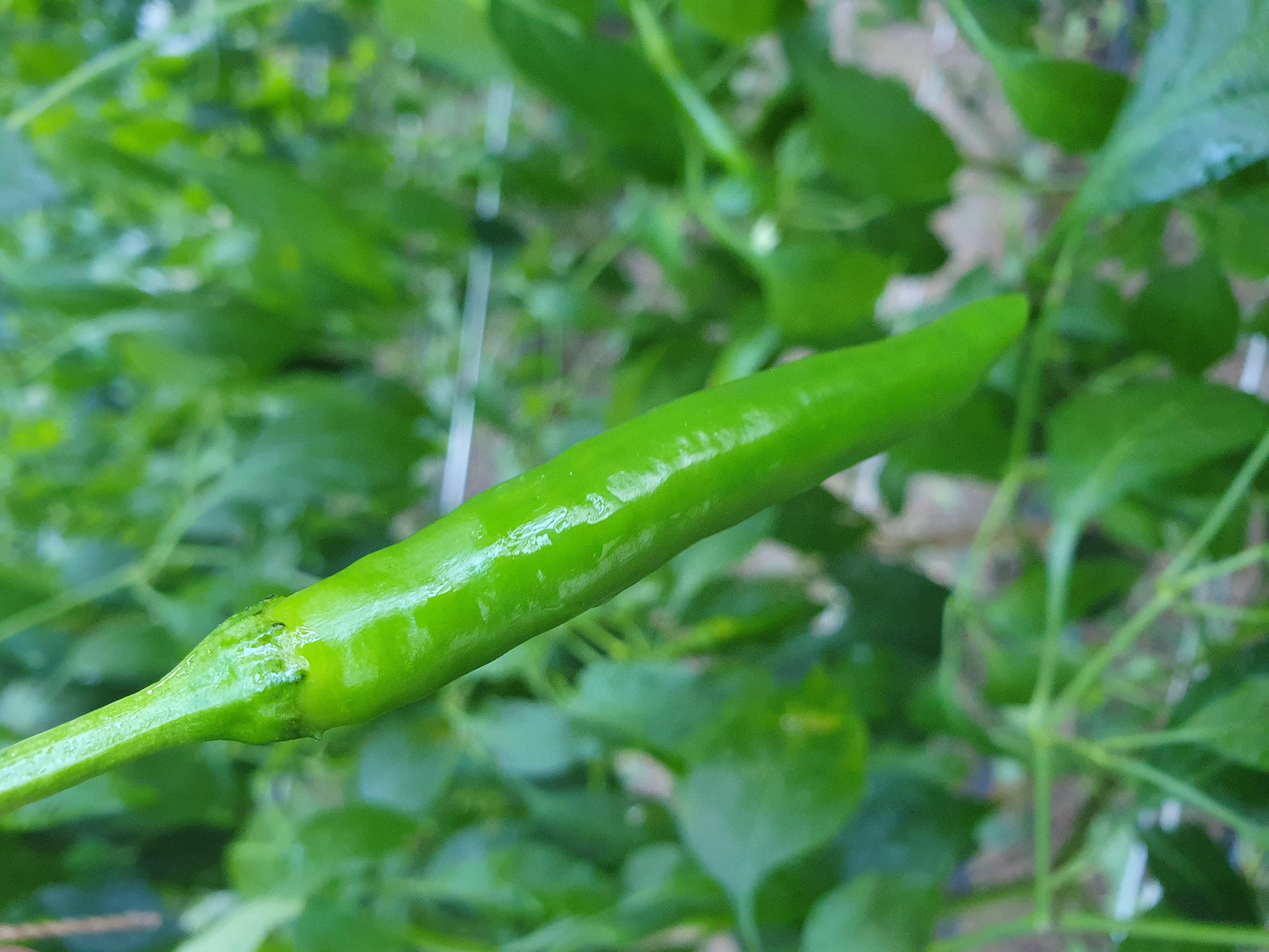Buah Cabai Sehat: (180, 287, 1033, 763)
